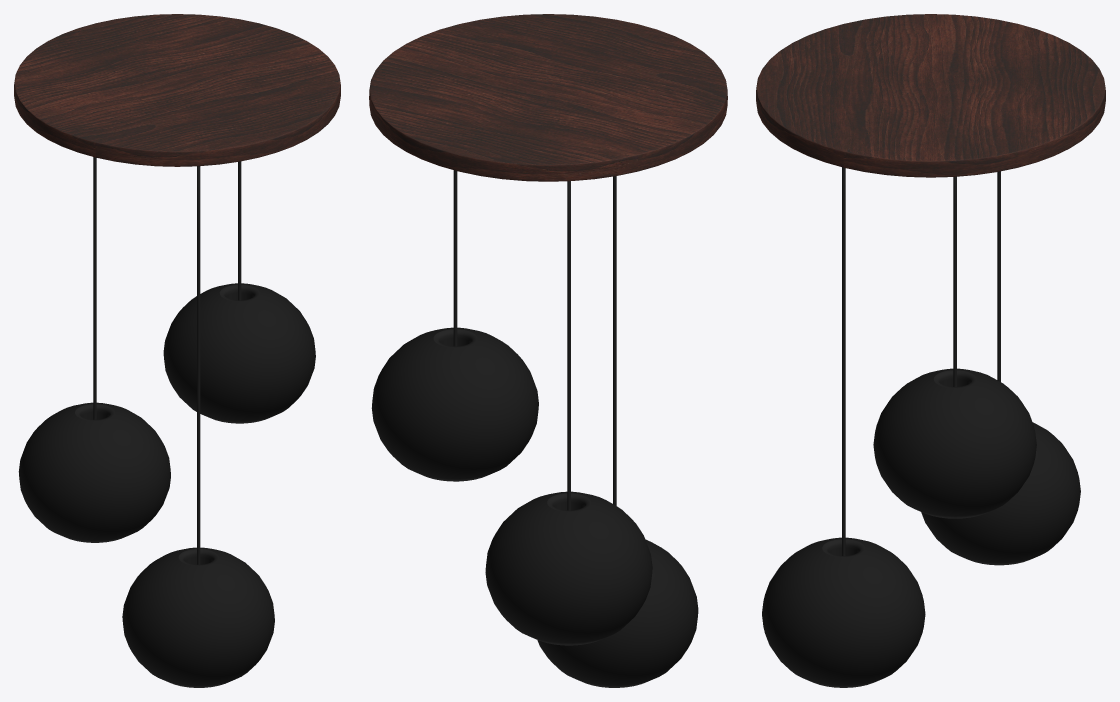
File: DeckenLampe-AR.glb
3 views of the same model, side by side, from view 1: azimuth 30°, elevation 25°; view 2: azimuth 150°, elevation 25°; view 3: azimuth 270°, elevation 25° (orthographic). The views are drawn at different scales.
Visible parts, largest first — view 1: Deckenaufhängung.001, Lampe unten.004, lampe mitte.004, lampe oben.004, Lampe unten.003, lampe mitte.003, lampe oben.003; view 2: Deckenaufhängung.001, lampe oben.004, lampe mitte.004, Lampe unten.004, lampe mitte.003, lampe oben.003, Lampe unten.003; view 3: Deckenaufhängung.001, Lampe unten.004, lampe oben.004, lampe mitte.004, Lampe unten.003, lampe oben.003, lampe mitte.003.
Boxes of the visible parts, x1,y1,x2,y2 form: Deckenaufhängung.001: [14, 14, 340, 166]; Lampe unten.004: [122, 547, 274, 687]; lampe mitte.004: [18, 402, 170, 542]; lampe oben.004: [163, 283, 315, 423]; Lampe unten.003: [178, 166, 218, 565]; lampe mitte.003: [75, 157, 114, 420]; lampe oben.003: [219, 161, 259, 301]; Deckenaufhängung.001: [369, 14, 727, 181]; lampe oben.004: [371, 327, 538, 481]; lampe mitte.004: [485, 491, 652, 645]; Lampe unten.004: [537, 539, 698, 687]; lampe mitte.003: [547, 181, 590, 511]; lampe oben.003: [433, 170, 477, 347]; Lampe unten.003: [613, 176, 616, 505]; Deckenaufhängung.001: [756, 14, 1105, 177]; Lampe unten.004: [762, 537, 925, 687]; lampe oben.004: [873, 368, 1036, 518]; lampe mitte.004: [921, 422, 1080, 565]; Lampe unten.003: [822, 167, 864, 557]; lampe oben.003: [933, 176, 976, 388]; lampe mitte.003: [997, 171, 1000, 381].
Size of the model in its own units: 0.6687 by 1.25 by 0.6687.
Materials: 4 (1 with a texture image).
